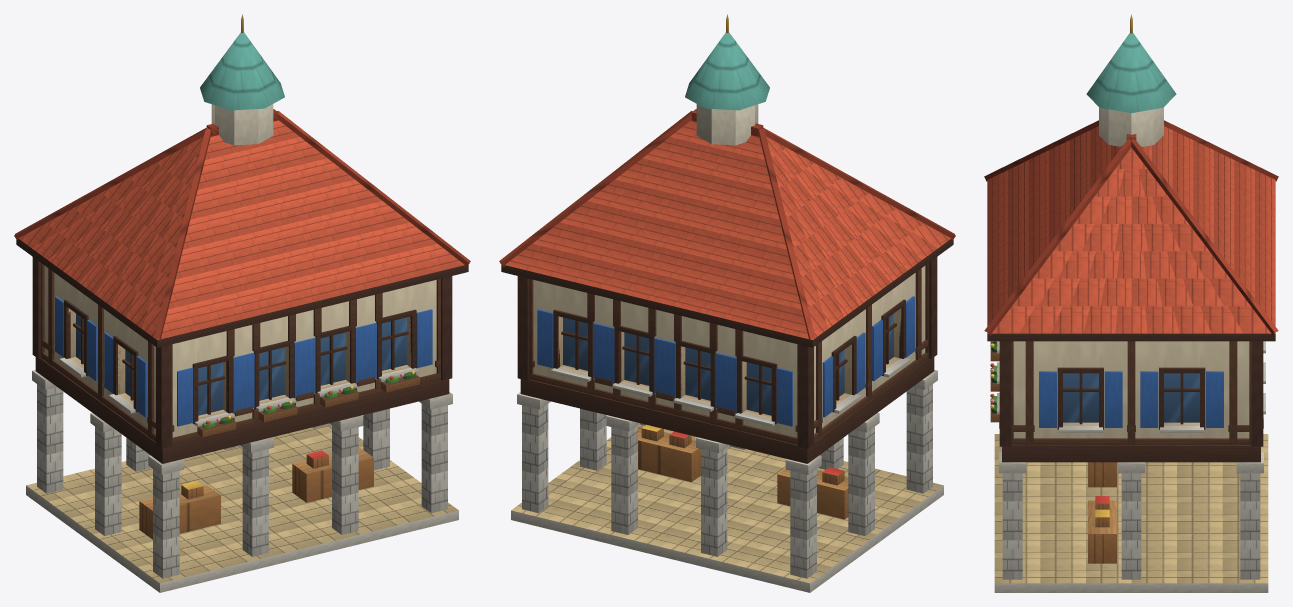
File: biz_market_hall_01.glb
3 views of the same model, side by side, from view 1: azimuth 30°, elevation 25°; view 2: azimuth 150°, elevation 25°; view 3: azimuth 270°, elevation 25° (orthographic). The views are drawn at different scales.
Visible parts, largest first — view 1: biz_market_hall_01; view 2: biz_market_hall_01; view 3: biz_market_hall_01.
Boxes of the visible parts, box(x1,y1,x2,y2) form: biz_market_hall_01: box(14, 14, 470, 592); biz_market_hall_01: box(499, 14, 955, 592); biz_market_hall_01: box(984, 14, 1278, 592).
Size of the model in its own units: 10.35 by 15.41 by 8.16.
1 material, 1 textured.
